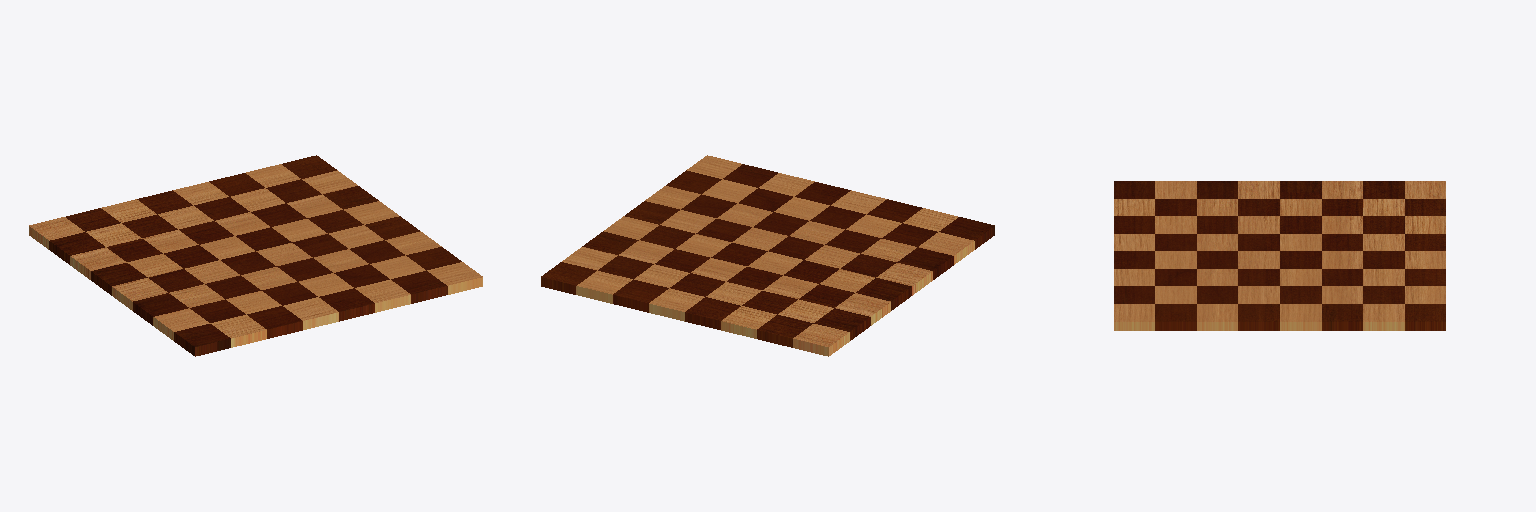
The picture shows the model from 3 angles: view 1: azimuth 30°, elevation 25°; view 2: azimuth 150°, elevation 25°; view 3: azimuth 270°, elevation 25°; orthographic projection.
Size of the model in its own units: 12.6 by 0.3937 by 12.6.
Materials: 3 (3 with a texture image).